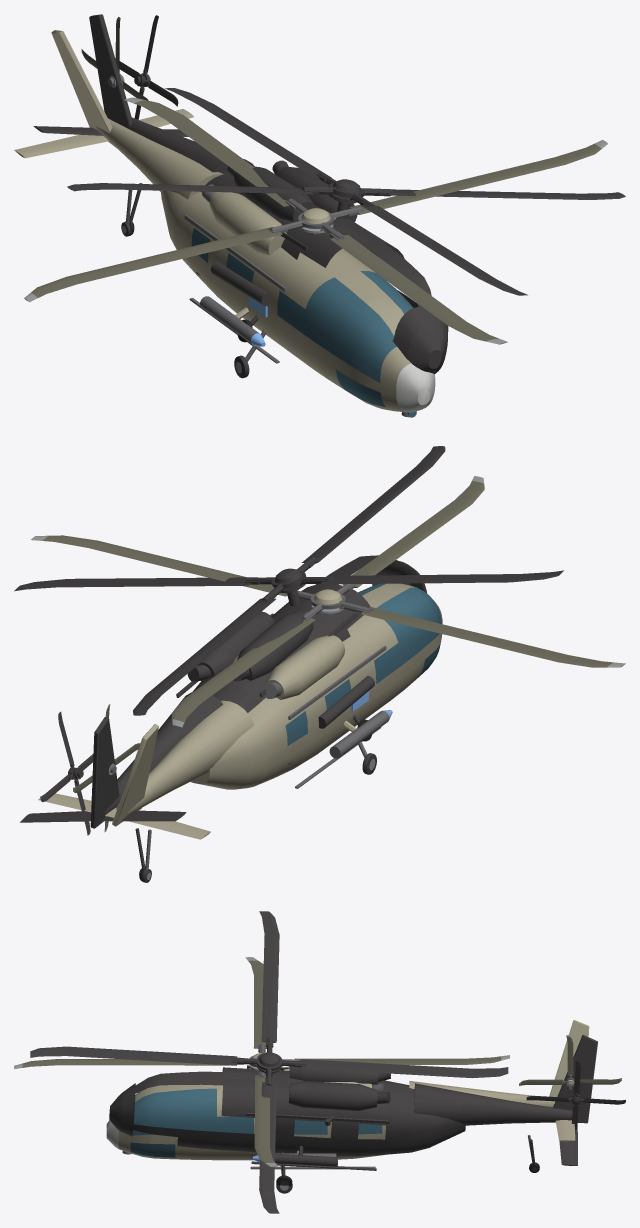
The model's file is navalHelicopter__sh_60l.glb.
3 views of the same model, one above another, from view 1: azimuth 30°, elevation 25°; view 2: azimuth 150°, elevation 25°; view 3: azimuth 270°, elevation 25° (orthographic). The views are drawn at different scales.
Visible parts, largest first — view 1: Fuselage_Mesh, Wreck, Rotor_Main_Mesh, Engines_Mesh, Naval_Mission_Kit_Mesh, Landing_Gear_Mesh, Rotor_Tail_Mesh; view 2: Wreck, Fuselage_Mesh, Rotor_Main_Mesh, Engines_Mesh, Naval_Mission_Kit_Mesh, Landing_Gear_Mesh; view 3: Wreck, Fuselage_Mesh, Rotor_Main_Mesh, Rotor_Tail_Mesh.
Boxes of the visible parts, bbox=[...] form: Fuselage_Mesh: bbox=[14, 30, 435, 417]; Wreck: bbox=[33, 14, 625, 373]; Rotor_Main_Mesh: bbox=[24, 97, 607, 344]; Engines_Mesh: bbox=[202, 184, 286, 255]; Naval_Mission_Kit_Mesh: bbox=[200, 296, 265, 346]; Landing_Gear_Mesh: bbox=[121, 190, 266, 378]; Rotor_Tail_Mesh: bbox=[81, 16, 148, 123]; Wreck: bbox=[14, 446, 563, 880]; Fuselage_Mesh: bbox=[38, 583, 442, 839]; Rotor_Main_Mesh: bbox=[31, 476, 625, 727]; Engines_Mesh: bbox=[233, 635, 345, 699]; Naval_Mission_Kit_Mesh: bbox=[329, 710, 392, 758]; Landing_Gear_Mesh: bbox=[141, 725, 376, 882]; Wreck: bbox=[30, 911, 625, 1213]; Fuselage_Mesh: bbox=[106, 1020, 589, 1169]; Rotor_Main_Mesh: bbox=[14, 957, 509, 1167]; Rotor_Tail_Mesh: bbox=[519, 1035, 621, 1089].
Size of what is drawn, in the model's own units: 16.86 by 6.41 by 20.24.
